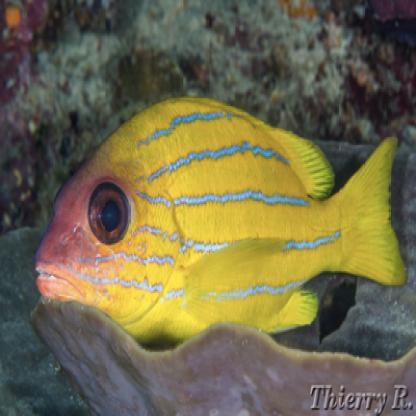snapper: (26, 87, 407, 347)
